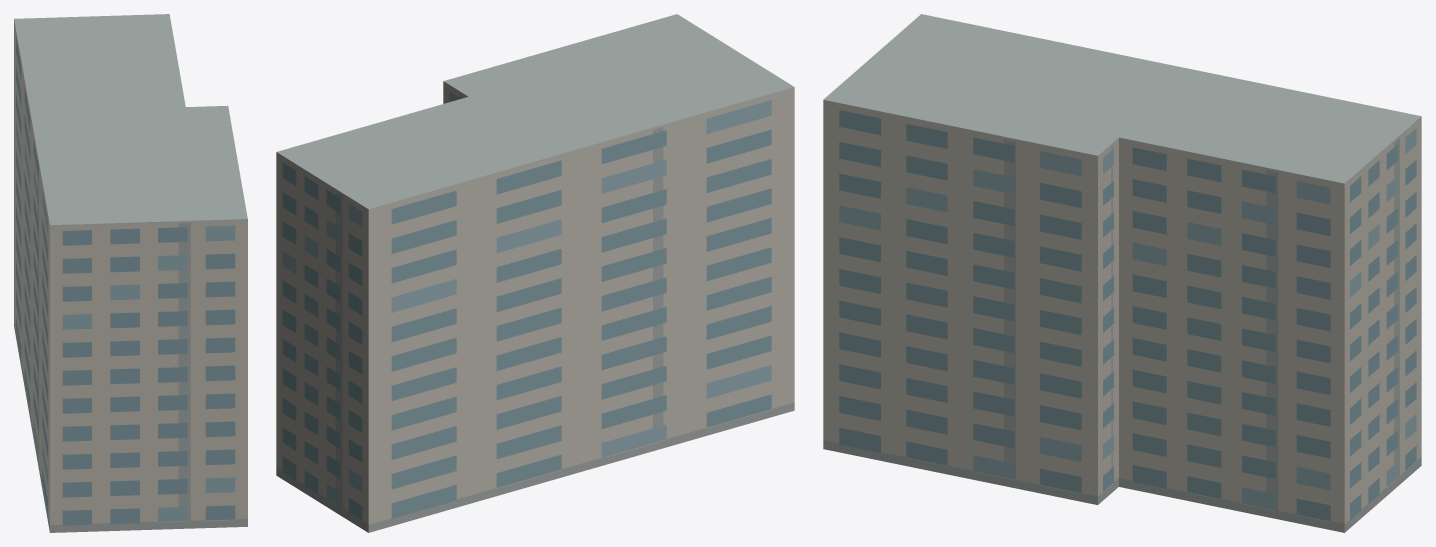
The model's file is residential-22b5ee9f-e8d4-4b4a-97c0-62146a108381.glb.
3 views of the same model, side by side, from view 1: azimuth 30°, elevation 25°; view 2: azimuth 150°, elevation 25°; view 3: azimuth 270°, elevation 25° (orthographic). The views are drawn at different scales.
Visible parts, largest first — view 1: residential-22b5ee9f-e8d4-4b4a-97c0-62146a108381.tmp; view 2: residential-22b5ee9f-e8d4-4b4a-97c0-62146a108381.tmp; view 3: residential-22b5ee9f-e8d4-4b4a-97c0-62146a108381.tmp.
Boxes of the visible parts, x1,y1,x2,y2 form: residential-22b5ee9f-e8d4-4b4a-97c0-62146a108381.tmp: [14, 14, 247, 532]; residential-22b5ee9f-e8d4-4b4a-97c0-62146a108381.tmp: [276, 14, 794, 532]; residential-22b5ee9f-e8d4-4b4a-97c0-62146a108381.tmp: [823, 14, 1421, 532].
Size of the model in its own units: 35.4 by 34 by 52.8.
